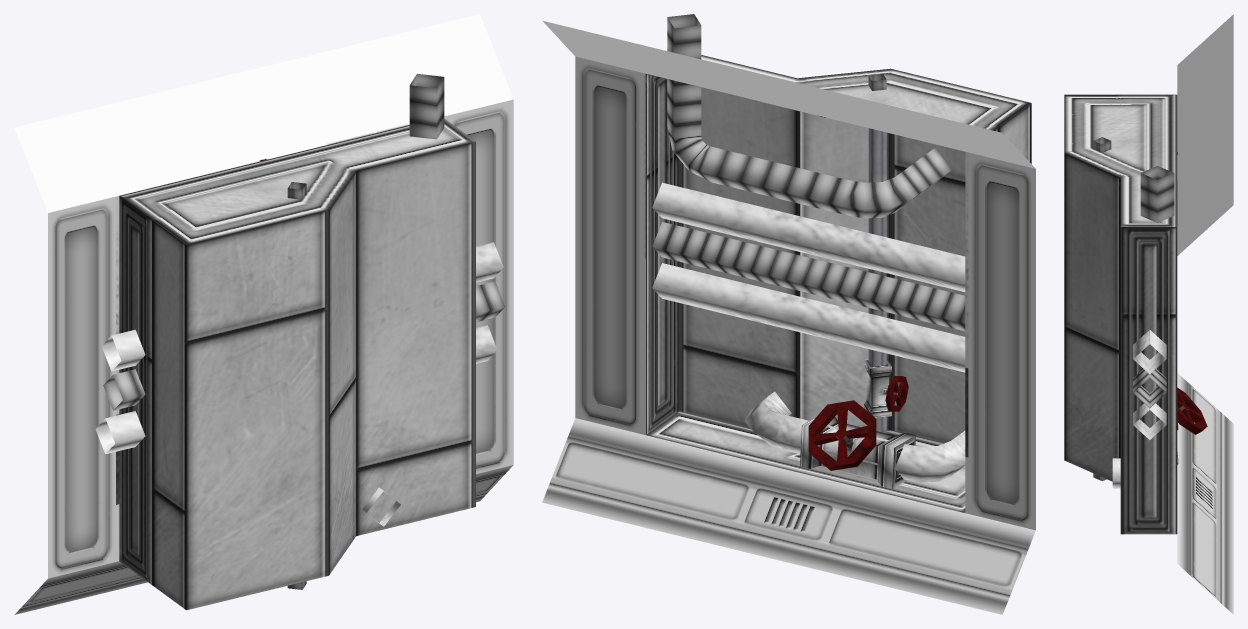
File: Sect_Wall_4b_Pipes.FBX
3 views of the same model, side by side, from view 1: azimuth 30°, elevation 25°; view 2: azimuth 150°, elevation 25°; view 3: azimuth 270°, elevation 25° (orthographic). The views are drawn at different scales.
Parts seen in each view (by area): view 1: Wall_4b_Pipes; view 2: Wall_4b_Pipes; view 3: Wall_4b_Pipes.
Part boxes in pixels (left/top/right/bottom): Wall_4b_Pipes: left=14, top=14, right=513, bottom=614; Wall_4b_Pipes: left=542, top=14, right=1035, bottom=614; Wall_4b_Pipes: left=1064, top=14, right=1233, bottom=614.
Size of the model in its own units: 4 by 4 by 1.5.
